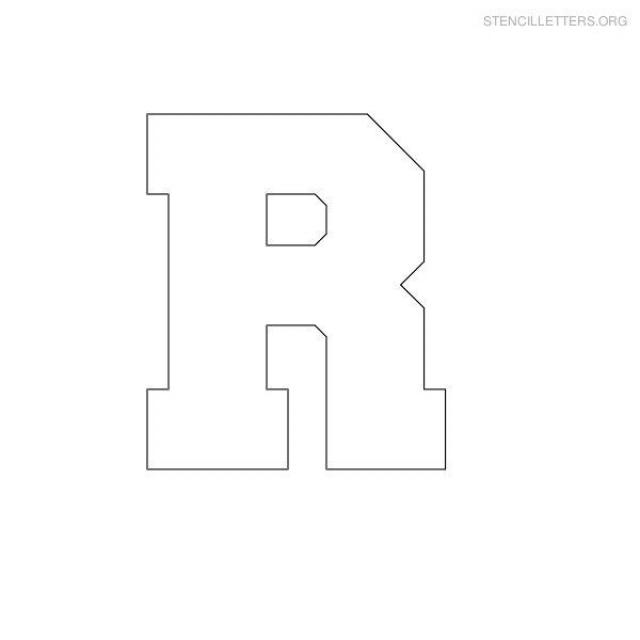R: (100, 77, 481, 543)
